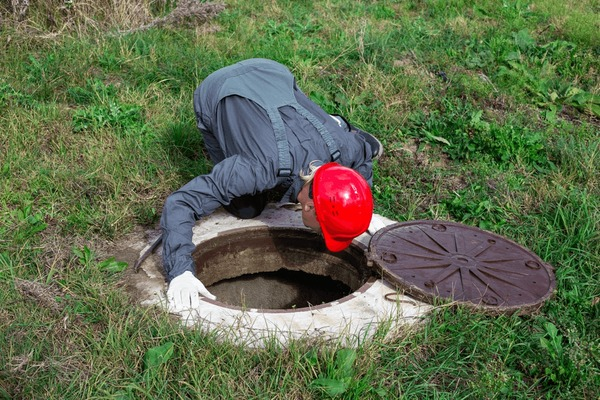open_manhole: (165, 230, 375, 305)
